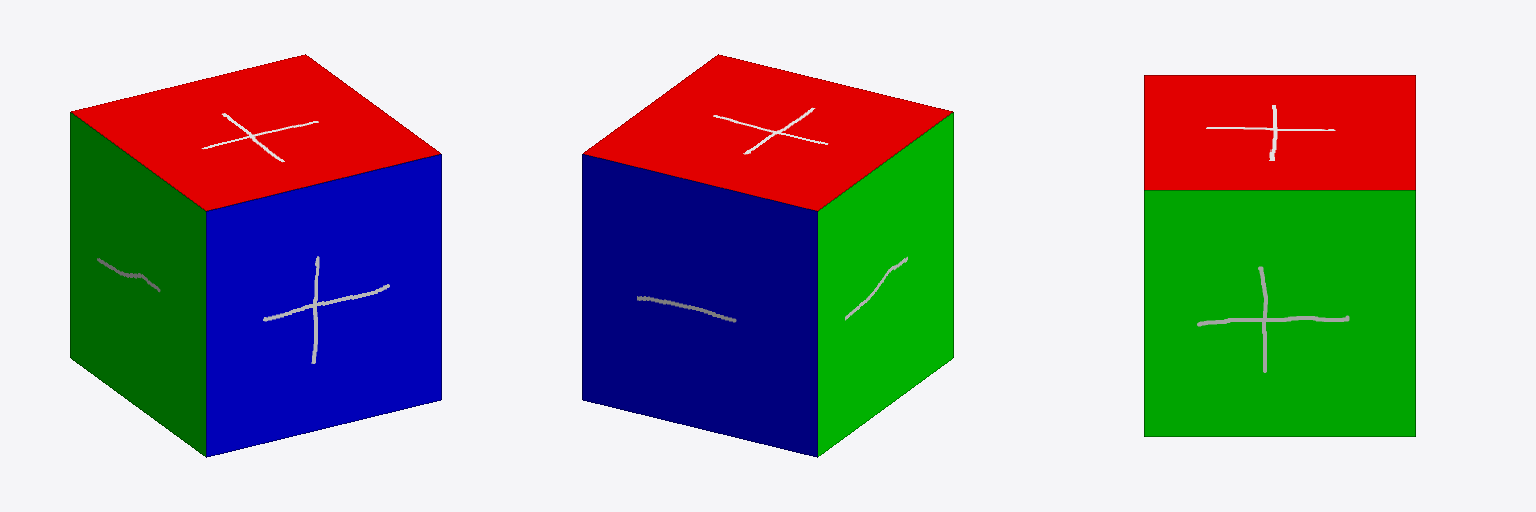
The picture shows the model from 3 angles: view 1: azimuth 30°, elevation 25°; view 2: azimuth 150°, elevation 25°; view 3: azimuth 270°, elevation 25°; orthographic projection.
Parts seen in each view (by area): view 1: Cube; view 2: Cube; view 3: Cube.
Part boxes in pixels (x1,y1,x2,y2): Cube: (70,54,441,457); Cube: (582,54,953,457); Cube: (1144,75,1415,436).
Size of the model in its own units: 2 by 2 by 2.
Materials: 1 (1 with a texture image).